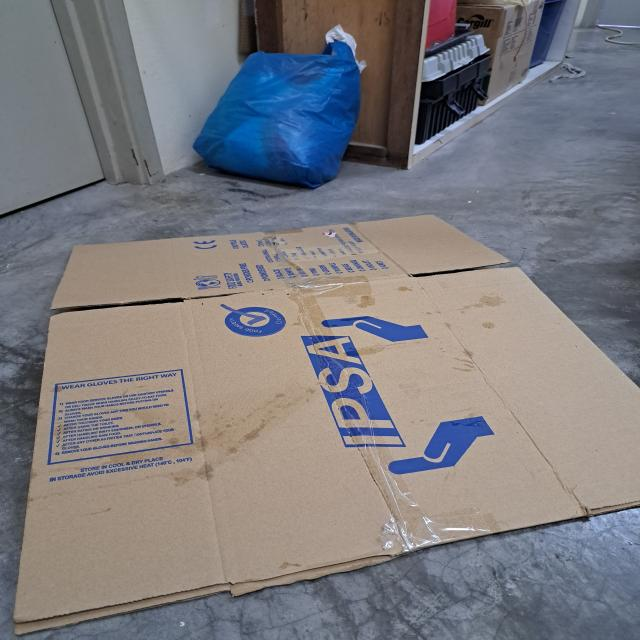cardboard: (9, 211, 640, 634)
plastic bag: (193, 41, 361, 189)
